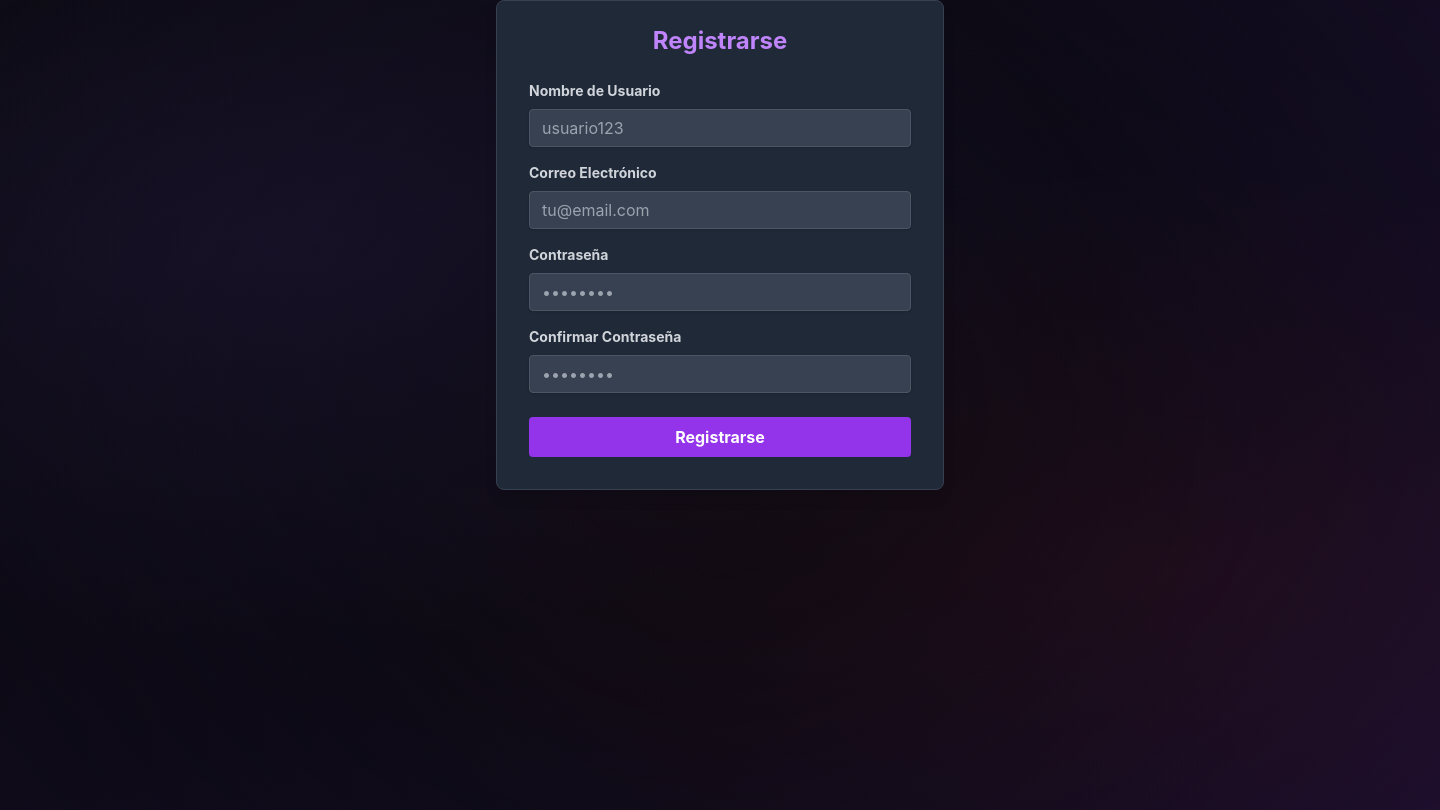
Test: RegisterForm › validates username format
Note: Enter invalid username (with special characters)
Type "user@name!" into the field labelled "Nombre de Usuario" at (720,128), box [529,109,911,147]
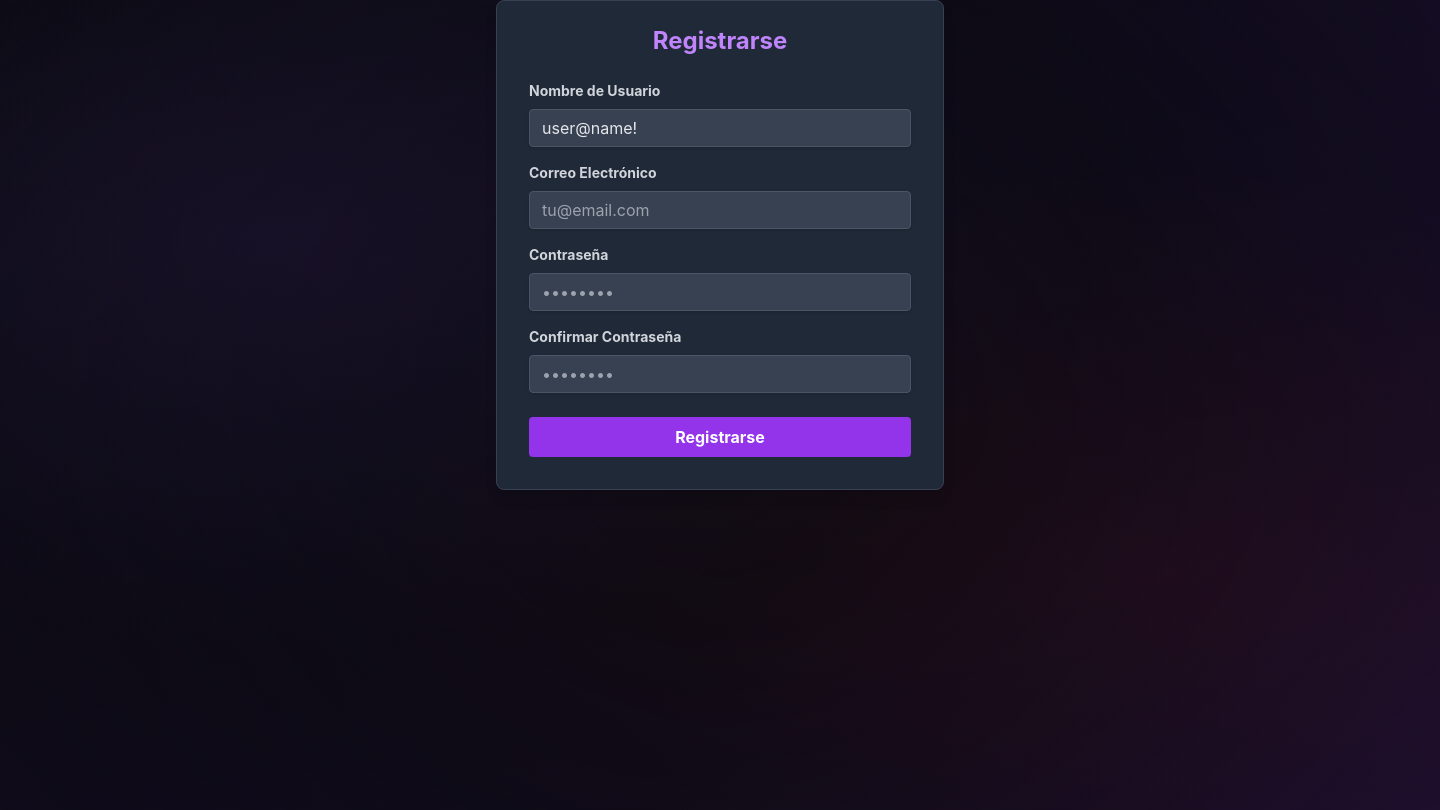
Click the button "Registrarse" at (720,437), box [529,417,911,457]
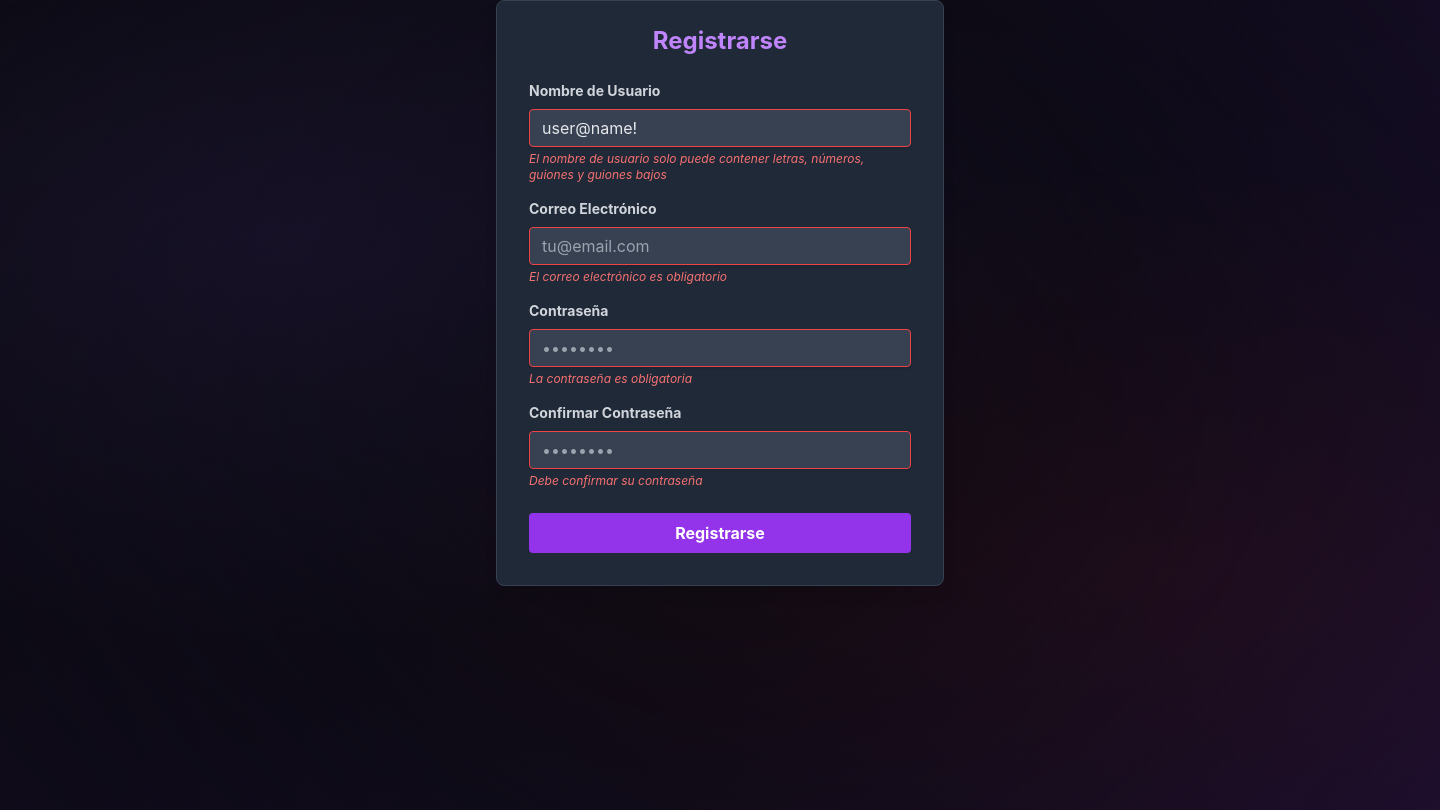
Expected: the text "solo puede contener letras, números, guiones" is shown, [529,151,864,182]
